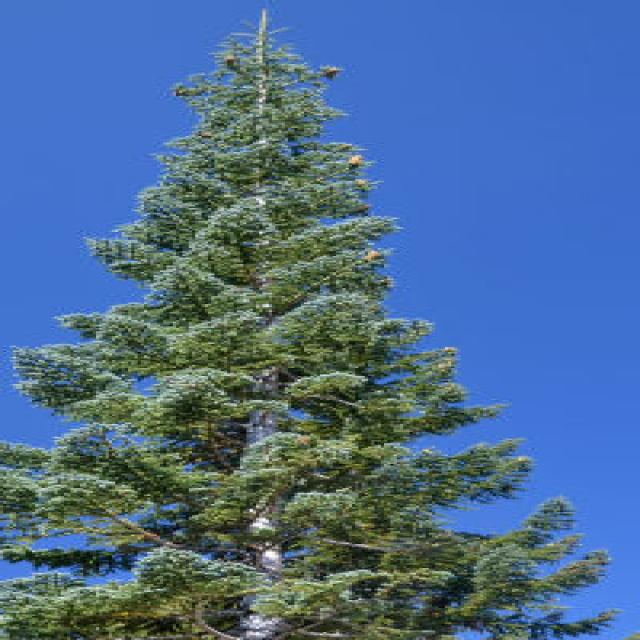Abies: (0, 8, 602, 640)
